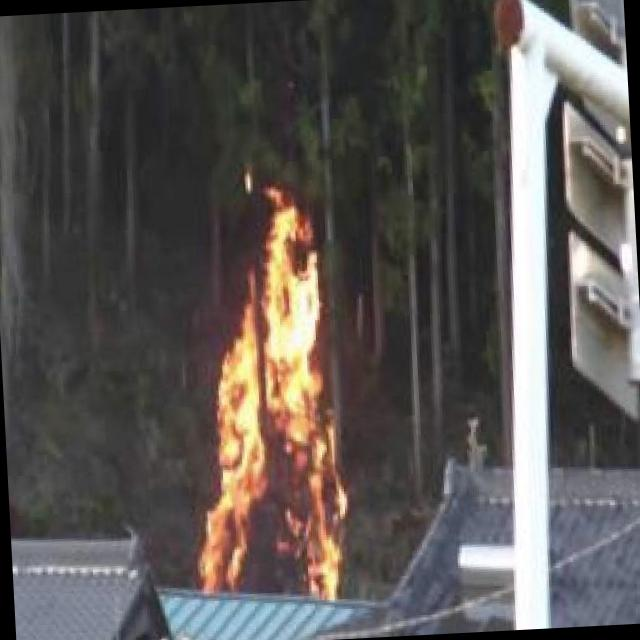Fire: (186, 201, 355, 614)
